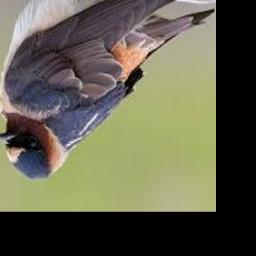Swallow: (0, 0, 215, 180)
